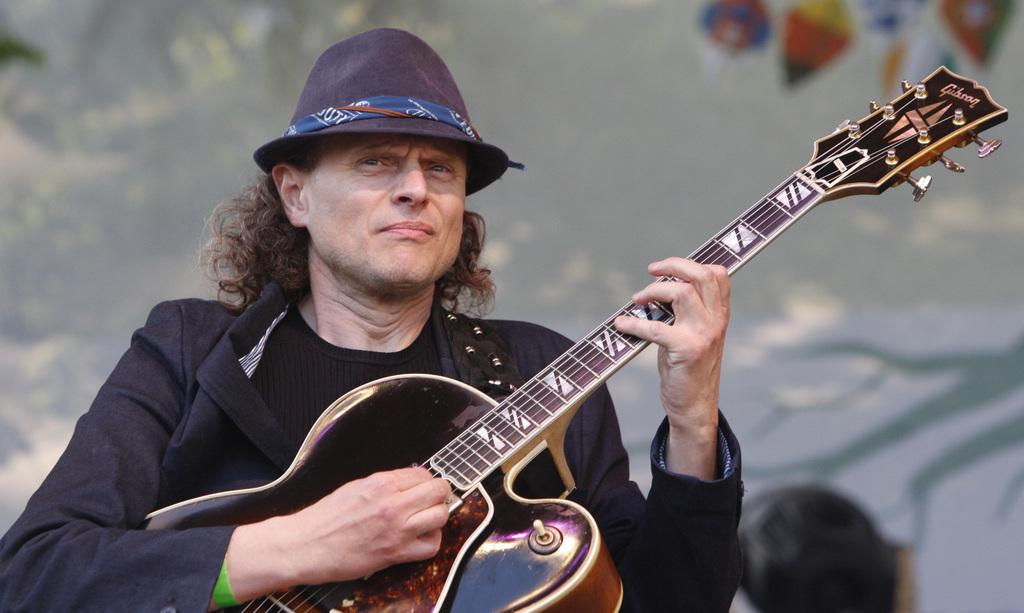Hat: (254, 21, 524, 189)
